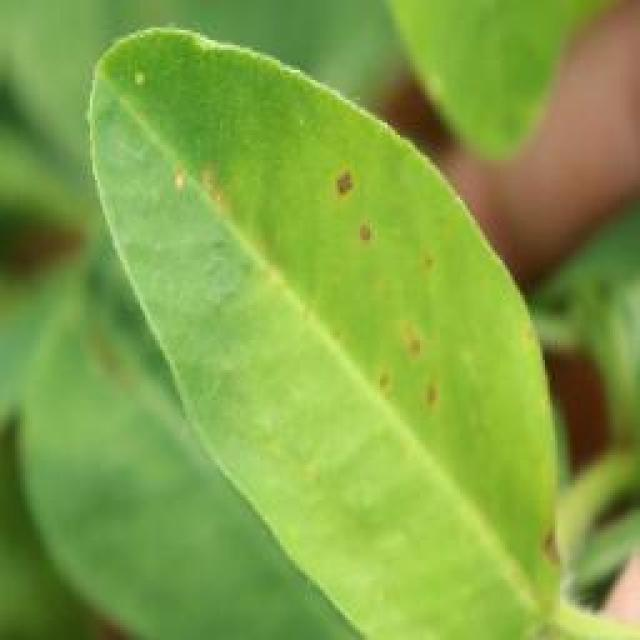Sigatoka: (155, 156, 264, 240), (358, 323, 442, 431), (314, 163, 380, 266), (532, 498, 568, 571), (410, 247, 440, 310)
